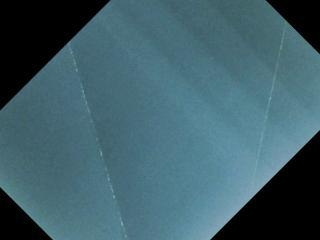crack: (66, 41, 131, 240), (248, 18, 290, 197)
